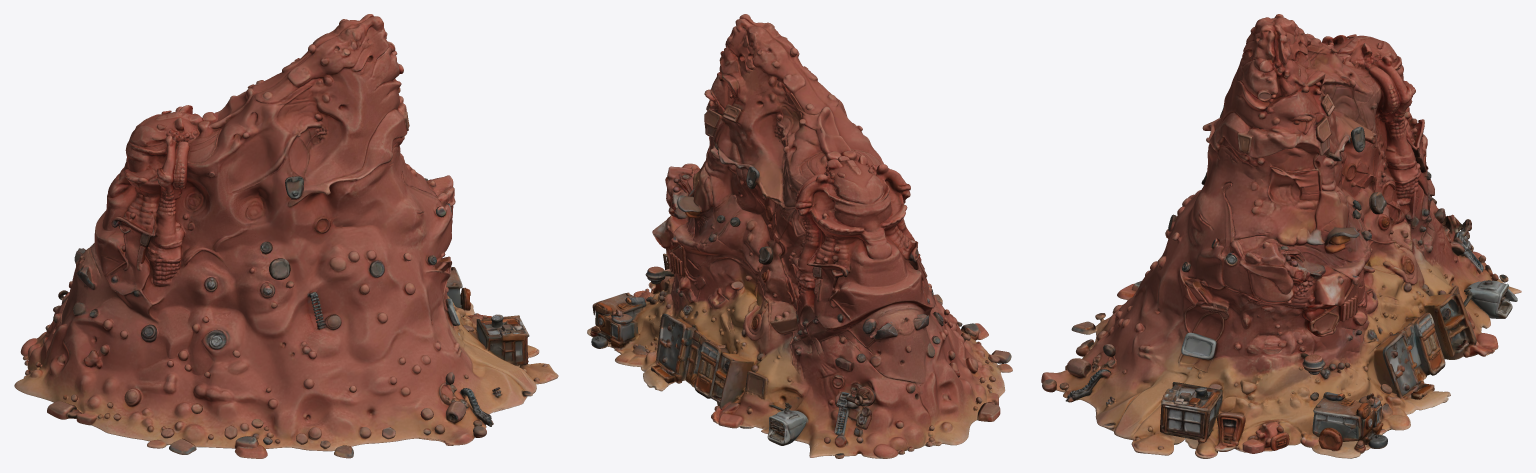
Rendered from mars_mountain.glb.
3 views of the same model, side by side, from view 1: azimuth 30°, elevation 25°; view 2: azimuth 150°, elevation 25°; view 3: azimuth 270°, elevation 25° (orthographic). The views are drawn at different scales.
Visible parts, largest first — view 1: tripo_node_84f29a50-0780-4348-945f-2808058d1235; view 2: tripo_node_84f29a50-0780-4348-945f-2808058d1235; view 3: tripo_node_84f29a50-0780-4348-945f-2808058d1235.
Boxes of the visible parts, x1=… form: tripo_node_84f29a50-0780-4348-945f-2808058d1235: x1=14, y1=14, x2=558, y2=458; tripo_node_84f29a50-0780-4348-945f-2808058d1235: x1=587, y1=14, x2=1012, y2=458; tripo_node_84f29a50-0780-4348-945f-2808058d1235: x1=1041, y1=14, x2=1521, y2=458.
Bounding box in the file's own units: 0.9737 × 0.7462 × 0.8864.
1 material, 1 textured.
